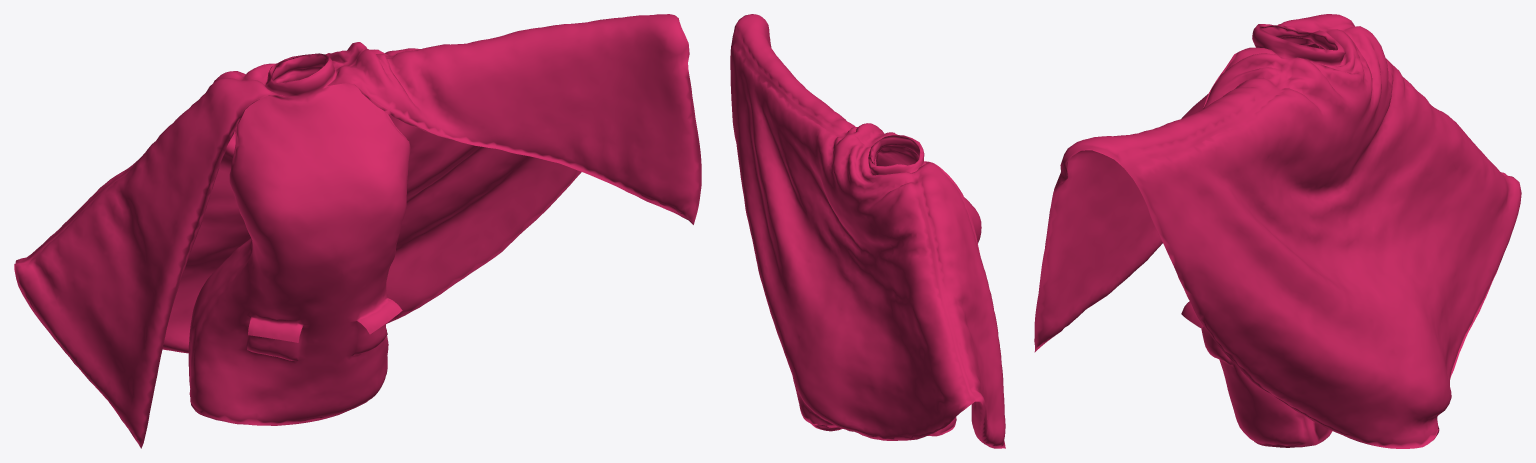
The model's file is woman_s_cape.obj.
3 views of the same model, side by side, from view 1: azimuth 30°, elevation 25°; view 2: azimuth 150°, elevation 25°; view 3: azimuth 270°, elevation 25° (orthographic). The views are drawn at different scales.
Parts seen in each view (by area): view 1: woman_s_cape; view 2: woman_s_cape; view 3: woman_s_cape.
Boxes of the visible parts, x1,y1,x2,y2 form: woman_s_cape: (14,14,701,448); woman_s_cape: (730,14,1005,448); woman_s_cape: (1034,14,1521,448).
Size of the model in its own units: 1.06 by 0.8131 by 0.7966.
